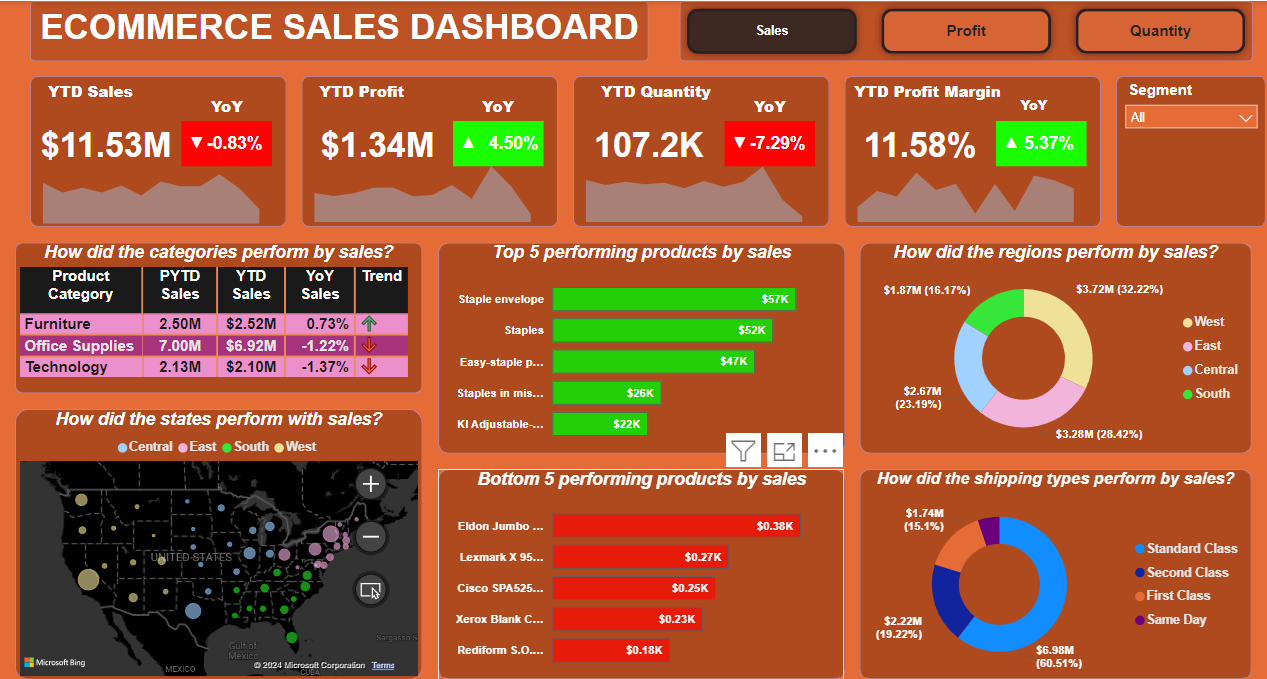

What the dashboard file says about the page in this screenshot:
{"tool":"powerbi","page":{"name":"Sales","canvas":[1345,720],"ordinal":0},"visuals":[{"type":"shape","box":[1184,80,160,160],"z":0},{"type":"group","id":"g1","title":"Group 2","box":[320,80,272,160],"z":1000},{"type":"shape","box":[32,0,656,64],"z":2000},{"type":"shape","box":[320,80,272,160],"z":2000,"group":"g3"},{"type":"shape","box":[608,80,272,160],"z":2000,"group":"g2"},{"type":"shape","box":[896,80,272,160],"z":2000,"group":"g4"},{"type":"textbox","box":[16,0,688,64],"z":3000},{"type":"shape","box":[32,80,272,160],"z":4000},{"type":"areaChart","fields":{"Category":["Date.Month"],"Y":["Sum(ecommerce_data.profit_per_order)"]},"box":[320,160,256,80],"z":4000,"group":"g3"},{"type":"areaChart","fields":{"Category":["Date.Month"],"Y":["Sum(ecommerce_data.order_quantity)"]},"box":[608,160,256,80],"z":4000,"group":"g2"},{"type":"areaChart","fields":{"Category":["Date.Month"],"Y":["ecommerce_data.Gross Profit Margin"]},"box":[896,160,256,80],"z":4000,"group":"g4"},{"type":"shape","box":[480,128,96,48],"z":5000,"group":"g3"},{"type":"shape","box":[768,128,96,48],"z":5000,"group":"g2"},{"type":"shape","box":[1056,128,96,48],"z":5000,"group":"g4"},{"type":"shape","box":[16,256,432,160],"z":5000},{"type":"card","fields":{"Values":["ecommerce_data.YTD Sales"]},"box":[16,128,192,48],"z":6000},{"type":"card","fields":{"Values":["ecommerce_data.YoY Profit"]},"box":[512,128,64,48],"z":6000,"group":"g3"},{"type":"card","fields":{"Values":["ecommerce_data.YoY Qty"]},"box":[784,128,80,48],"z":6000,"group":"g2"},{"type":"card","fields":{"Values":["ecommerce_data.YoY Gross Profit Margin"]},"box":[1072,128,80,48],"z":6000,"group":"g4"},{"type":"shape","box":[192,128,96,48],"z":7000,"group":"g5"},{"type":"card","fields":{"Values":["ecommerce_data.Profit Icon"]},"box":[480,128,32,48],"z":7000,"group":"g3"},{"type":"card","fields":{"Values":["ecommerce_data.Qty Icon"]},"box":[768,128,32,48],"z":7000,"group":"g2"},{"type":"card","fields":{"Values":["ecommerce_data.Gross Profit Margin Icon"]},"box":[1056,128,32,48],"z":7000,"group":"g4"},{"type":"areaChart","fields":{"Category":["Date.Month"],"Y":["Sum(ecommerce_data.sales_per_order)"]},"box":[32,160,256,80],"z":7000},{"type":"textbox","box":[320,80,128,32],"z":8000,"group":"g3"},{"type":"textbox","box":[624,80,144,32],"z":8000,"group":"g2"},{"type":"textbox","box":[896,80,176,32],"z":8000,"group":"g4"},{"type":"card","fields":{"Values":["ecommerce_data.YoY Sales"]},"box":[208,128,80,48],"z":8000,"group":"g5"},{"type":"card","fields":{"Values":["ecommerce_data.YTD Profit"]},"box":[304,128,192,48],"z":8000},{"type":"group","id":"g2","title":"Group 1","box":[608,80,272,160],"z":9000},{"type":"card","fields":{"Values":["ecommerce_data.Sales Icon"]},"box":[192,128,32,48],"z":9000,"group":"g5"},{"type":"textbox","box":[32,80,128,32],"z":10000,"group":"g5"},{"type":"group","id":"g3","title":"Group 1","box":[320,80,272,160],"z":10000,"group":"g1"},{"type":"group","id":"g4","title":"Group 1","box":[896,80,272,160],"z":10000},{"type":"pivotTable","title":"How did the categories perform by sales?","fields":{"Rows":["ecommerce_data.category_name"],"Values":["ecommerce_data.PYTD Sales","ecommerce_data.YTD Sales","ecommerce_data.YoY Sales","ecommerce_data.Sales Icon"]},"box":[16,256,432,160],"z":11000},{"type":"group","id":"g5","title":"Group 3","box":[32,80,256,96],"z":12000},{"type":"group","id":"g6","title":"Group 4","box":[896,96,240,80],"z":13000},{"type":"card","fields":{"Values":["ecommerce_data.YTD Quantity"]},"box":[608,128,160,48],"z":13000,"group":"g7"},{"type":"group","id":"g7","title":"Group 5","box":[608,96,256,80],"z":14000},{"type":"card","fields":{"Values":["ecommerce_data.YTD Gross Profit Margin"]},"box":[896,128,160,48],"z":15000,"group":"g6"},{"type":"shape","box":[16,432,432,288],"z":15000},{"type":"map","title":"How did the states perform with sales?","fields":{"Y":["us_state_long_lat_codes.latitude"],"X":["us_state_long_lat_codes.longitude"],"Size":["ecommerce_data.YTD Sales"],"Series":["ecommerce_data.customer_region"]},"box":[16,432,432,288],"z":16000},{"type":"textbox","box":[496,96,64,32],"z":16002,"group":"g1"},{"type":"textbox","box":[192,96,96,32],"z":17000,"group":"g5"},{"type":"shape","box":[464,496,432,224],"z":17000},{"type":"textbox","box":[768,96,96,32],"z":17002,"group":"g7"},{"type":"textbox","box":[1056,96,80,48],"z":17003,"group":"g6"},{"type":"shape","box":[464,256,432,224],"z":18000},{"type":"barChart","title":"Top 5 performing products by sales","fields":{"Category":["ecommerce_data.product_name"],"Y":["ecommerce_data.YTD Sales"]},"box":[464,256,432,224],"z":19000},{"type":"barChart","title":"Bottom 5 performing products by sales","fields":{"Category":["ecommerce_data.product_name"],"Y":["ecommerce_data.YTD Sales"]},"box":[464,496,432,224],"z":20000},{"type":"shape","box":[912,256,416,224],"z":21000},{"type":"shape","box":[912,496,416,224],"z":22000},{"type":"donutChart","title":"How did the regions perform by sales?","fields":{"Category":["ecommerce_data.customer_region"],"Y":["ecommerce_data.YTD Sales"]},"box":[912,256,416,224],"z":23000},{"type":"donutChart","title":"How did the shipping types perform by sales?","fields":{"Y":["ecommerce_data.YTD Sales"],"Category":["ecommerce_data.shipping_type"]},"box":[912,496,416,224],"z":24000},{"type":"slicer","fields":{"Values":["ecommerce_data.customer_segment"]},"box":[1184,80,160,160],"z":25000},{"type":"shape","box":[720,0,608,64],"z":26000},{"type":"pageNavigator","box":[720,0,608,64],"z":27000}]}

Visuals, with their boxes in screenshot pixels (x1, y1, x2, y2), scaled from the page's 1345x720 canvas onto the 1267x679 screenshot:
shape: bbox(1115, 75, 1266, 226)
"Group 2" group: bbox(301, 75, 558, 226)
shape: bbox(30, 0, 648, 60)
shape: bbox(301, 75, 558, 226)
shape: bbox(573, 75, 829, 226)
shape: bbox(844, 75, 1100, 226)
textbox: bbox(15, 0, 663, 60)
shape: bbox(30, 75, 286, 226)
areaChart - Date.Month x Sum(ecommerce_data.profit_per_order): bbox(301, 151, 543, 226)
areaChart - Date.Month x Sum(ecommerce_data.order_quantity): bbox(573, 151, 814, 226)
areaChart - Date.Month x ecommerce_data.Gross Profit Margin: bbox(844, 151, 1085, 226)
shape: bbox(452, 121, 543, 166)
shape: bbox(723, 121, 814, 166)
shape: bbox(995, 121, 1085, 166)
shape: bbox(15, 241, 422, 392)
card - ecommerce_data.YTD Sales: bbox(15, 121, 196, 166)
card - ecommerce_data.YoY Profit: bbox(482, 121, 543, 166)
card - ecommerce_data.YoY Qty: bbox(739, 121, 814, 166)
card - ecommerce_data.YoY Gross Profit Margin: bbox(1010, 121, 1085, 166)
shape: bbox(181, 121, 271, 166)
card - ecommerce_data.Profit Icon: bbox(452, 121, 482, 166)
card - ecommerce_data.Qty Icon: bbox(723, 121, 754, 166)
card - ecommerce_data.Gross Profit Margin Icon: bbox(995, 121, 1025, 166)
areaChart - Date.Month x Sum(ecommerce_data.sales_per_order): bbox(30, 151, 271, 226)
textbox: bbox(301, 75, 422, 106)
textbox: bbox(588, 75, 723, 106)
textbox: bbox(844, 75, 1010, 106)
card - ecommerce_data.YoY Sales: bbox(196, 121, 271, 166)
card - ecommerce_data.YTD Profit: bbox(286, 121, 467, 166)
"Group 1" group: bbox(573, 75, 829, 226)
card - ecommerce_data.Sales Icon: bbox(181, 121, 211, 166)
textbox: bbox(30, 75, 151, 106)
"Group 1" group: bbox(301, 75, 558, 226)
"Group 1" group: bbox(844, 75, 1100, 226)
"How did the categories perform by sales?" pivotTable: bbox(15, 241, 422, 392)
"Group 3" group: bbox(30, 75, 271, 166)
"Group 4" group: bbox(844, 91, 1070, 166)
card - ecommerce_data.YTD Quantity: bbox(573, 121, 723, 166)
"Group 5" group: bbox(573, 91, 814, 166)
card - ecommerce_data.YTD Gross Profit Margin: bbox(844, 121, 995, 166)
shape: bbox(15, 407, 422, 678)
"How did the states perform with sales?" map: bbox(15, 407, 422, 678)
textbox: bbox(467, 91, 528, 121)
textbox: bbox(181, 91, 271, 121)
shape: bbox(437, 468, 844, 678)
textbox: bbox(723, 91, 814, 121)
textbox: bbox(995, 91, 1070, 136)
shape: bbox(437, 241, 844, 453)
"Top 5 performing products by sales" barChart: bbox(437, 241, 844, 453)
"Bottom 5 performing products by sales" barChart: bbox(437, 468, 844, 678)
shape: bbox(859, 241, 1251, 453)
shape: bbox(859, 468, 1251, 678)
"How did the regions perform by sales?" donutChart: bbox(859, 241, 1251, 453)
"How did the shipping types perform by sales?" donutChart: bbox(859, 468, 1251, 678)
slicer - ecommerce_data.customer_segment: bbox(1115, 75, 1266, 226)
shape: bbox(678, 0, 1251, 60)
pageNavigator: bbox(678, 0, 1251, 60)
